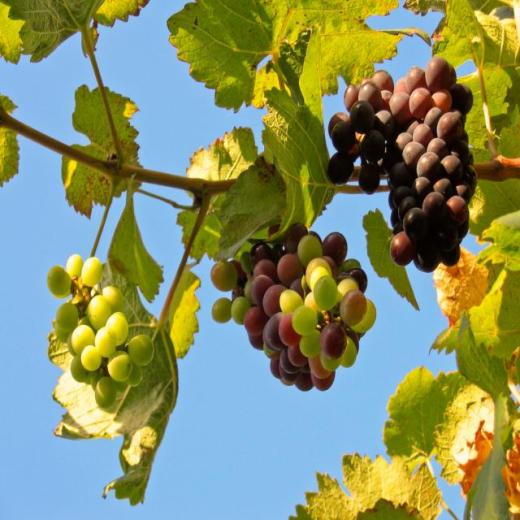Orange: (327, 56, 477, 273), (210, 223, 378, 392), (46, 252, 154, 410)
